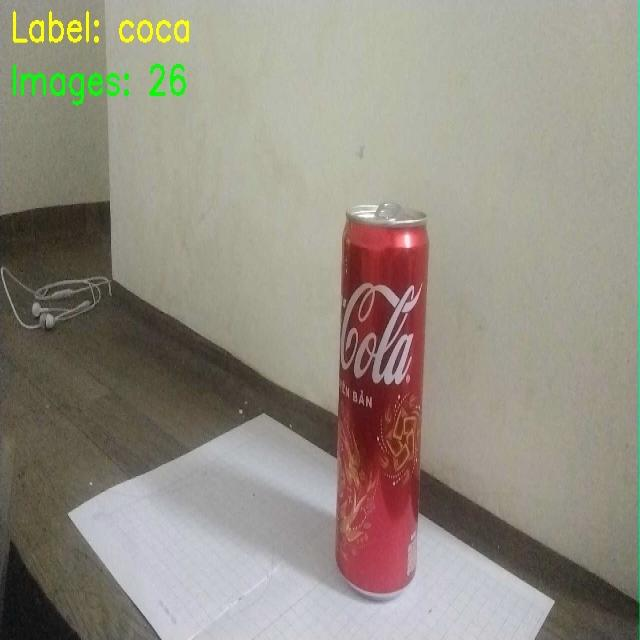Coca: (330, 173, 434, 612)
